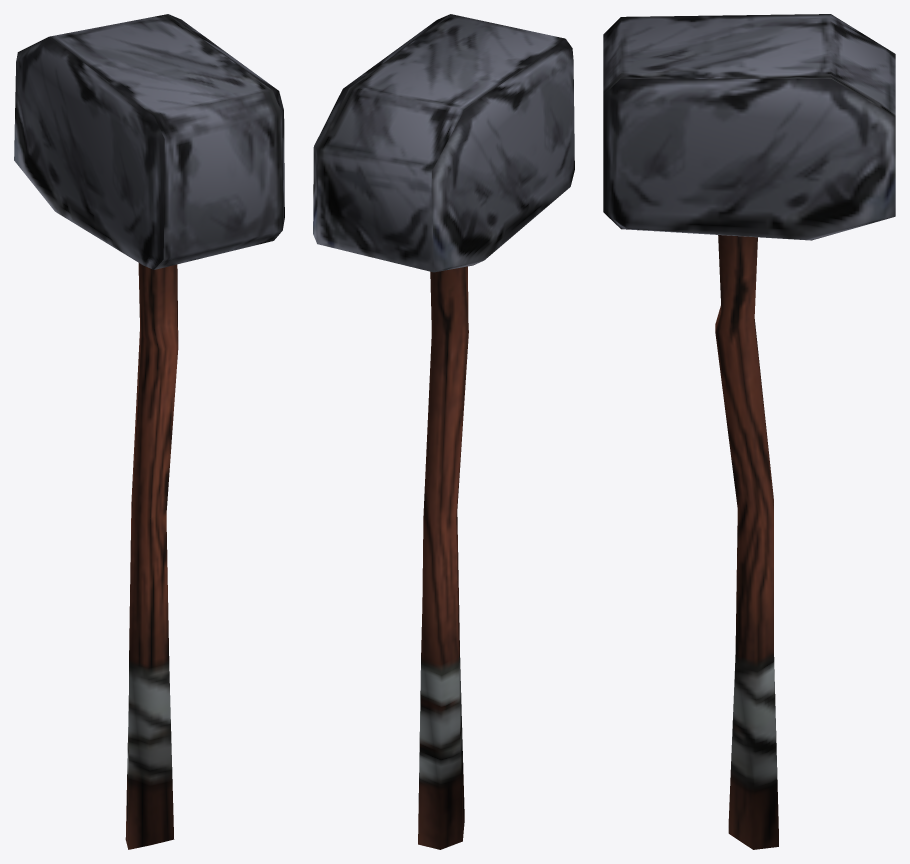
File: WP_2H_GreatMaul01.FBX
The picture shows the model from 3 angles, left to right: view 1: azimuth 30°, elevation 25°; view 2: azimuth 150°, elevation 25°; view 3: azimuth 270°, elevation 25°; orthographic projection. The views are drawn at different scales.
Parts seen in each view (by area): view 1: WP_2H_GreatMaul01; view 2: WP_2H_GreatMaul01; view 3: WP_2H_GreatMaul01.
Part boxes in pixels (x1,y1,x2,y2): WP_2H_GreatMaul01: (14,14,284,849); WP_2H_GreatMaul01: (313,14,574,849); WP_2H_GreatMaul01: (603,14,895,849).
Bounding box in the file's own units: 28.21 × 149 × 49.59.
